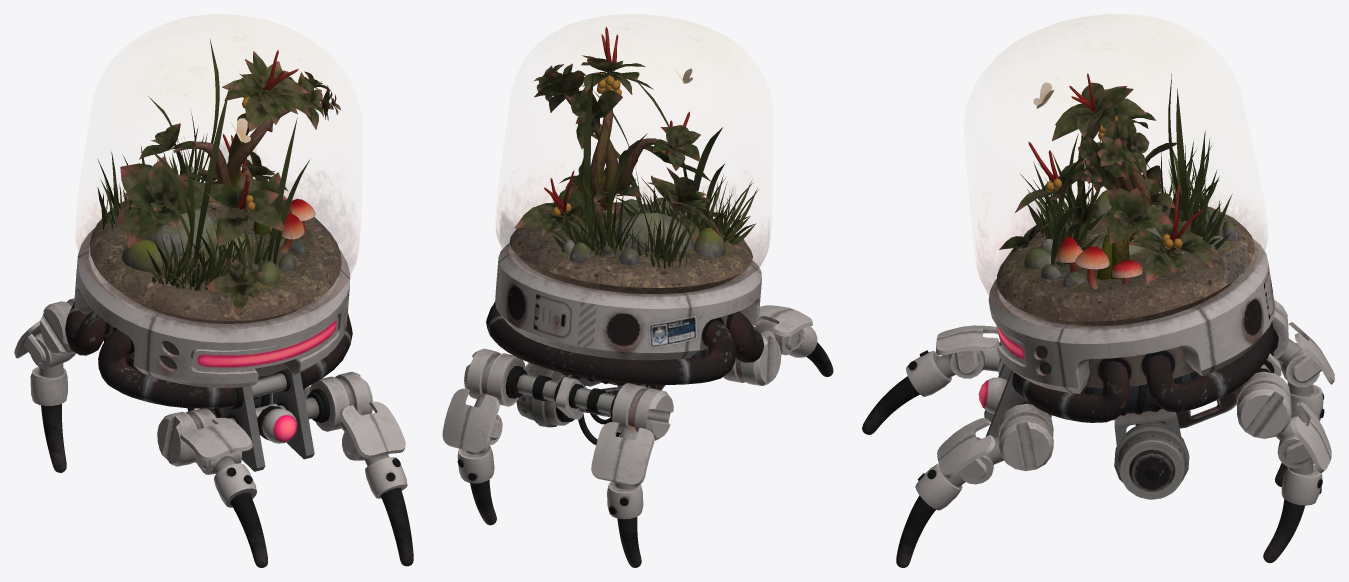
Rendered from terrarium-bot-b-optimized.glb.
3 views of the same model, side by side, from view 1: azimuth 30°, elevation 25°; view 2: azimuth 150°, elevation 25°; view 3: azimuth 270°, elevation 25° (orthographic). The views are drawn at different scales.
Visible parts, largest first — view 1: Bot2; view 2: Bot2; view 3: Bot2.
Boxes of the visible parts, x1,y1,x2,y2 form: Bot2: (14,16,413,567); Bot2: (442,16,833,567); Bot2: (862,14,1334,567).
Size of the model in its own units: 1.86 by 3.4 by 2.98.
Materials: 2 (2 with a texture image).
